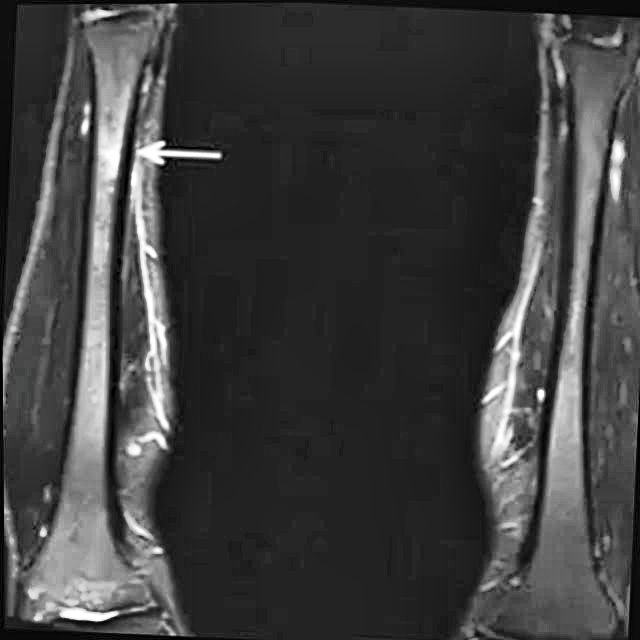Greenstick: (94, 124, 130, 185)
